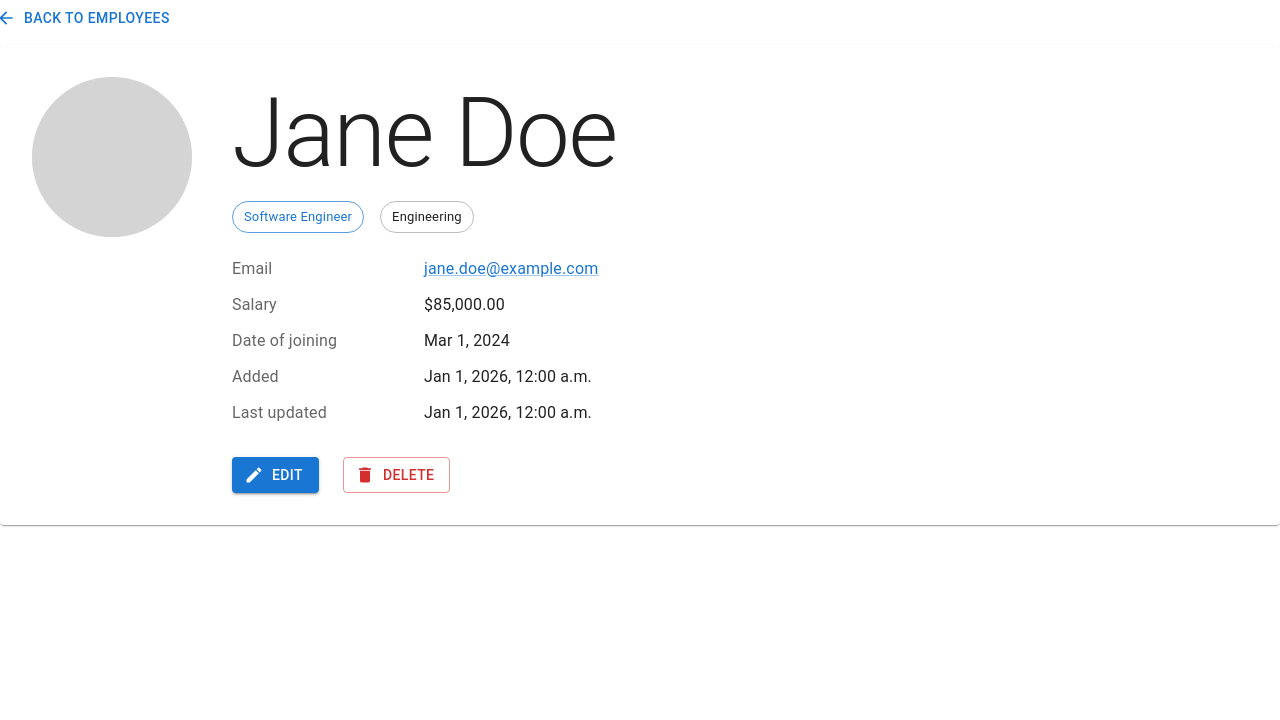
Test: EmployeeDetailsPage: deleting › goes back to the list when the employee was already deleted elsewhere (404)
Click the button "Delete": x=397, y=475 [343, 456, 450, 493]
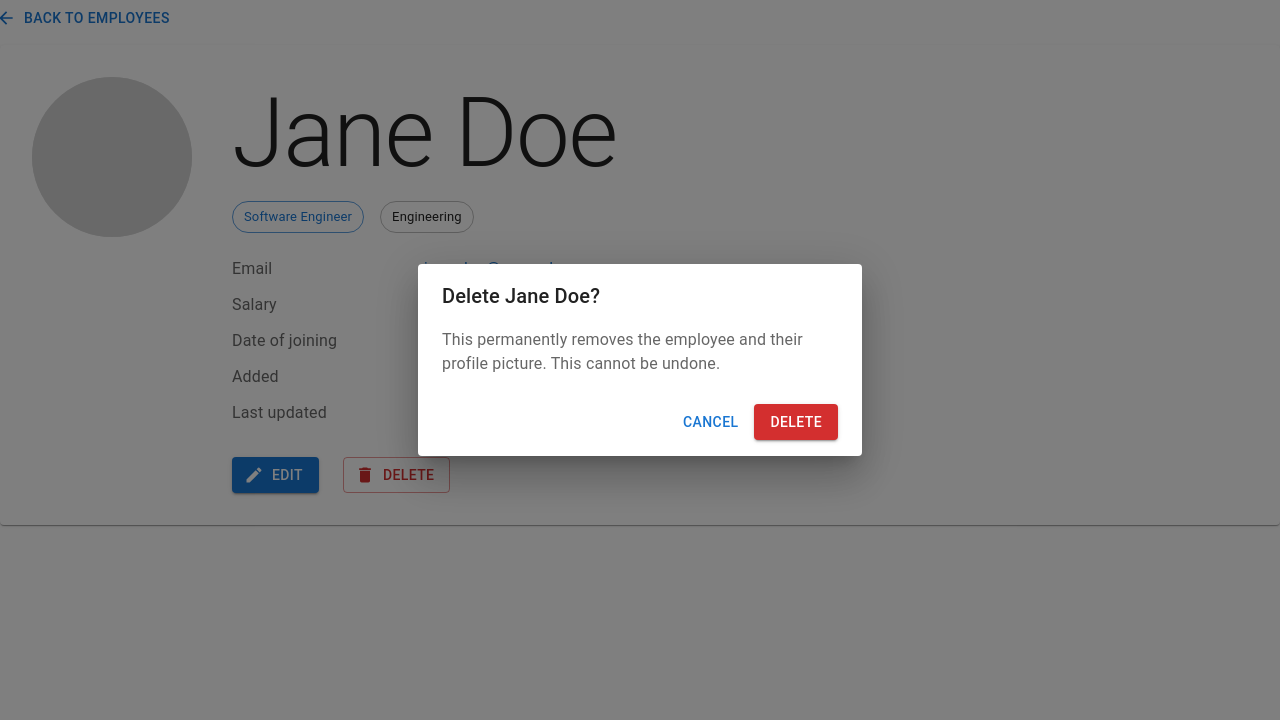
Click the button "Delete": x=796, y=422 [754, 404, 838, 440]
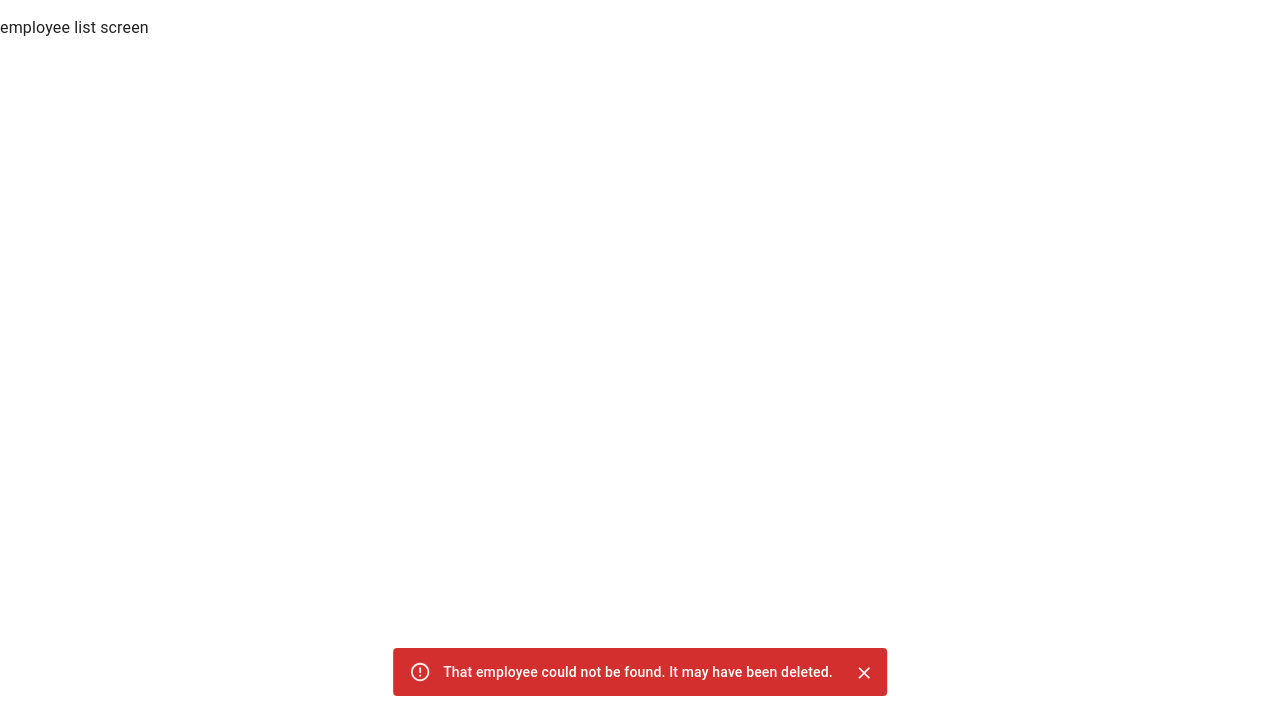
Expected: the text "employee list screen" is shown, [0, 18, 149, 37]
Expected: the text "That employee could not be found. It may have been deleted." is shown, [443, 664, 833, 680]
